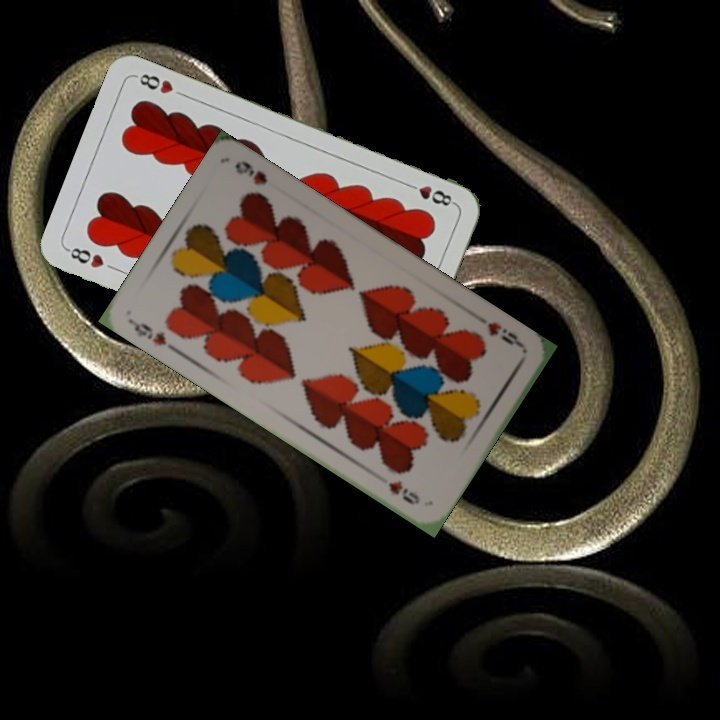H8: (400, 178, 457, 209), (63, 243, 107, 271)
H9: (483, 318, 527, 351), (126, 316, 170, 349)
